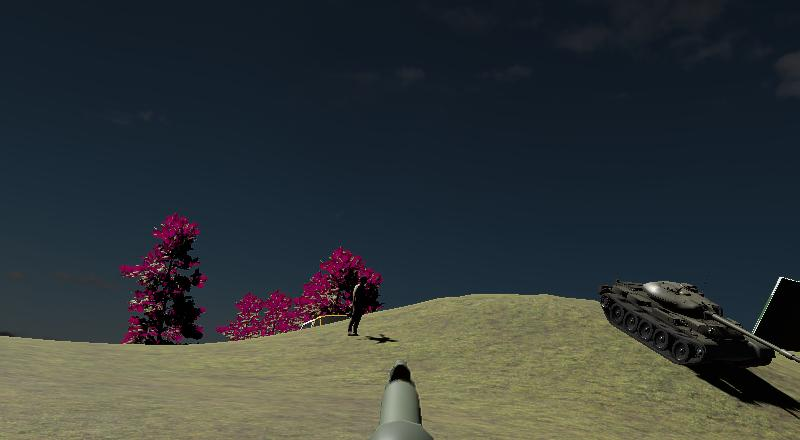Human: (345, 273, 373, 338)
Tank: (599, 276, 800, 375)
